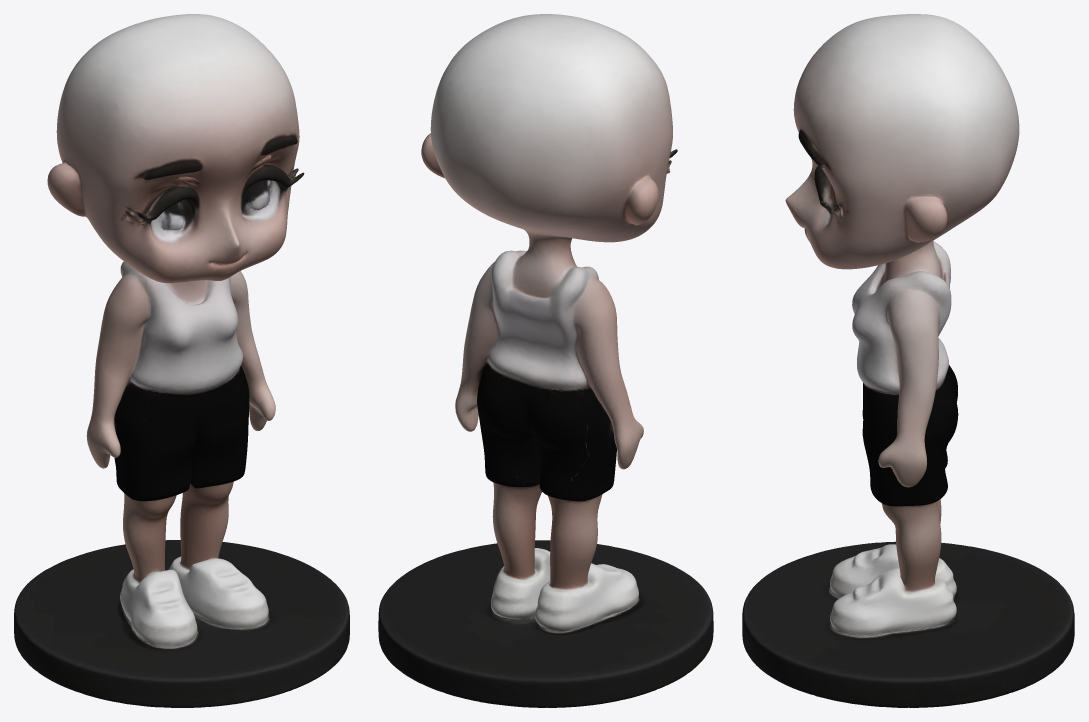
File: Chibi Girl.glb
3 renders of one model, left to right at view 1: azimuth 30°, elevation 25°; view 2: azimuth 150°, elevation 25°; view 3: azimuth 270°, elevation 25°, orthographic.
Parts seen in each view (by area): view 1: world; view 2: world; view 3: world.
Part boxes in pixels (x1=…): world: x1=14, y1=14, x2=349, y2=707; world: x1=378, y1=14, x2=713, y2=707; world: x1=742, y1=14, x2=1074, y2=707.
Size of the model in its own units: 0.4972 by 1 by 0.4971.
Materials: 1 (1 with a texture image).
